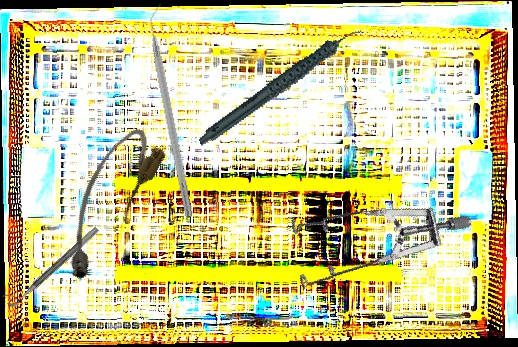Cannula: (44, 120, 171, 287)
Chopper: (143, 1, 205, 219)
Fixation Ring: (1, 219, 100, 310)
Handpiece: (182, 26, 381, 147)
Speculum: (268, 155, 475, 340)
